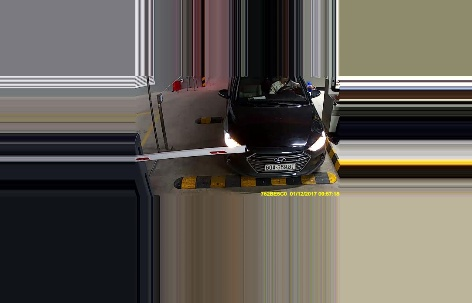plate: (263, 162, 295, 171)
